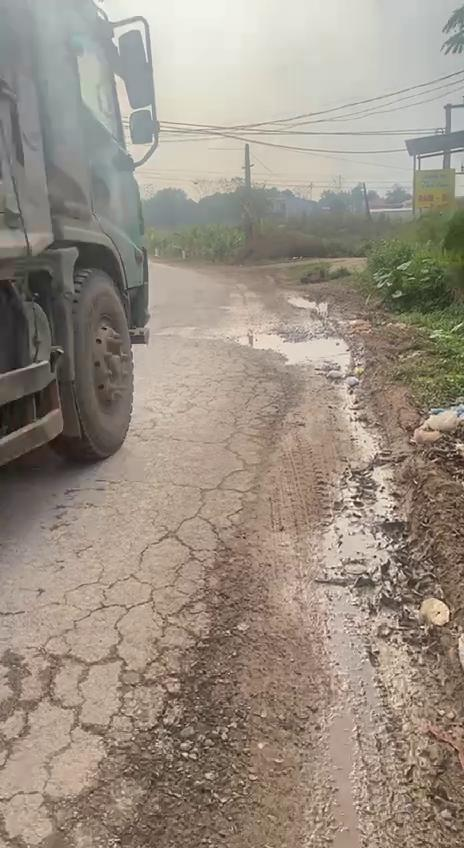pothole: (230, 323, 349, 376)
